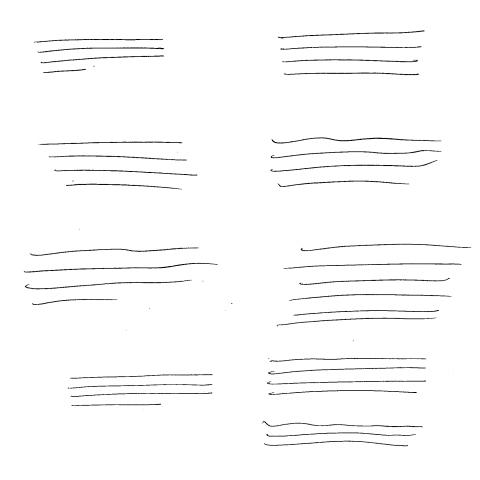Paragraph: (275, 244, 475, 328), (23, 247, 218, 307), (269, 138, 447, 189), (37, 141, 198, 192), (277, 30, 426, 77), (267, 358, 430, 397), (37, 33, 169, 75), (69, 374, 215, 409), (262, 420, 426, 448)
